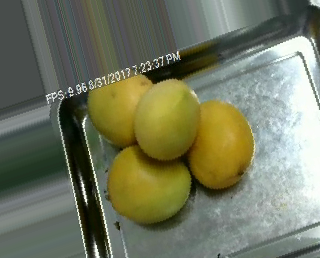Mango: (106, 143, 193, 226), (179, 101, 256, 188), (90, 72, 159, 156), (133, 78, 199, 163)
